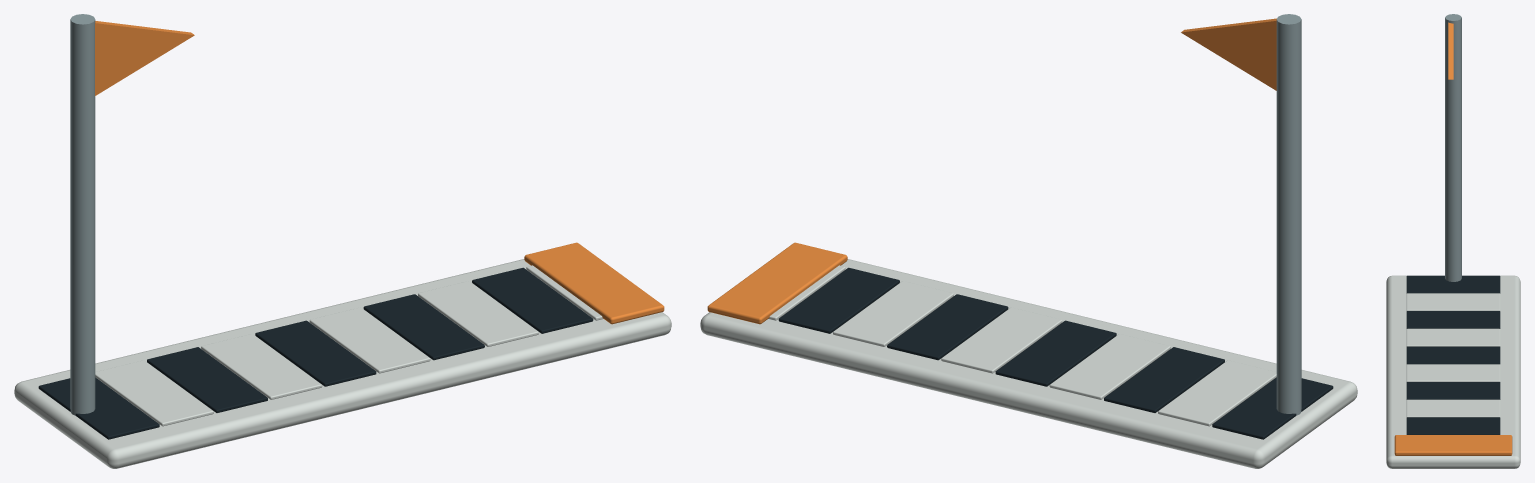
File: scale-marker.glb
3 renders of one model, left to right at view 1: azimuth 30°, elevation 25°; view 2: azimuth 150°, elevation 25°; view 3: azimuth 270°, elevation 25°, orthographic. The views are drawn at different scales.
Parts seen in each view (by area): view 1: white, dark, metal, orange; view 2: white, dark, metal, orange; view 3: white, dark, metal, orange.
Boxes of the visible parts, bbox=[...] form: white: bbox=[14, 259, 671, 468]; dark: bbox=[38, 267, 593, 439]; metal: bbox=[70, 14, 95, 415]; orange: bbox=[95, 21, 664, 324]; white: bbox=[700, 259, 1357, 468]; dark: bbox=[778, 267, 1333, 439]; metal: bbox=[1276, 14, 1301, 415]; orange: bbox=[707, 18, 1276, 324]; white: bbox=[1386, 275, 1520, 468]; dark: bbox=[1406, 275, 1500, 434]; metal: bbox=[1445, 14, 1461, 281]; orange: bbox=[1394, 22, 1512, 455].
Size of the model in its own units: 0.52 by 0.3635 by 0.16.
